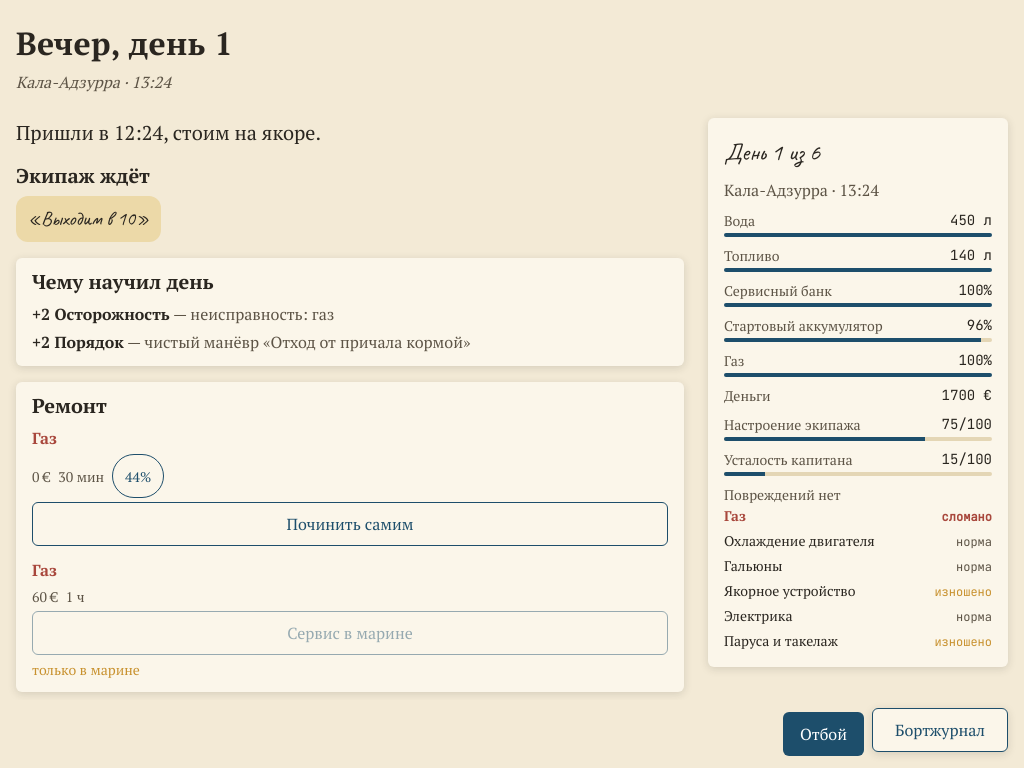
Test case: LogbookDrawer › opens the logbook with entries by day and closes on Escape
Click the button "Бортжурнал".
click(940, 730)  # box [872,708,1008,752]
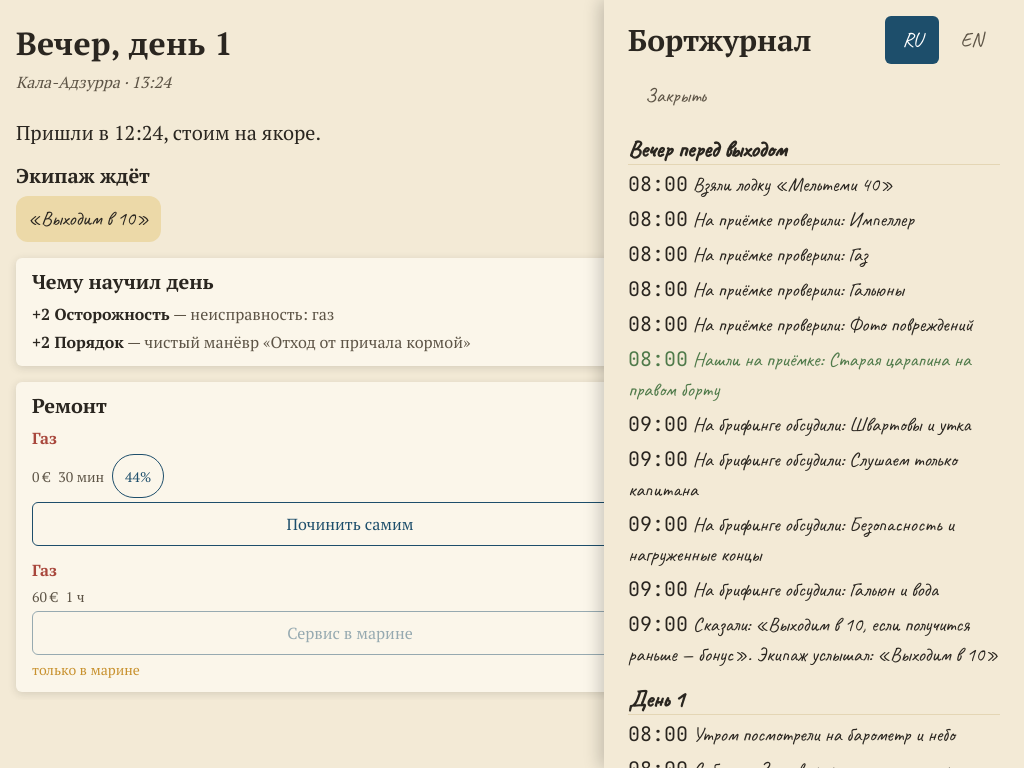
Check: the dialog "Бортжурнал" is shown, box [604,0,1023,767]
Check: the heading "День 1" is shown, box [628,686,1000,715]
Check: the list item "08:00 Взяли лодку «Мельтеми 40»" is shown, box [628,171,893,197]
Press Escape
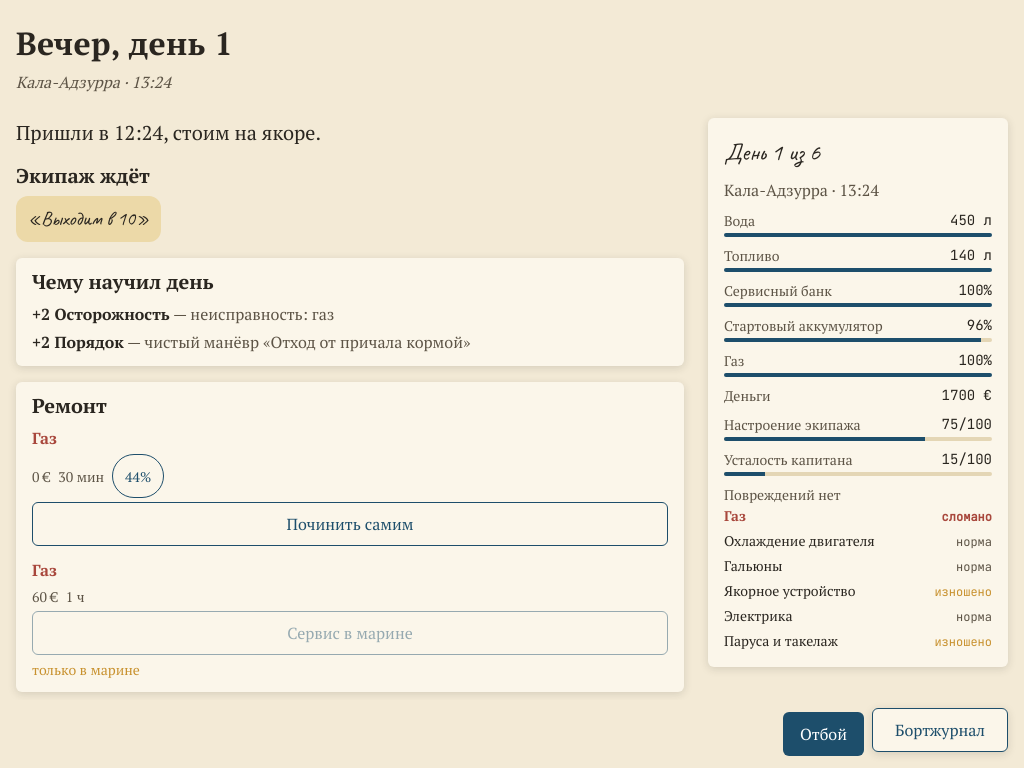
Check: the dialog is gone
